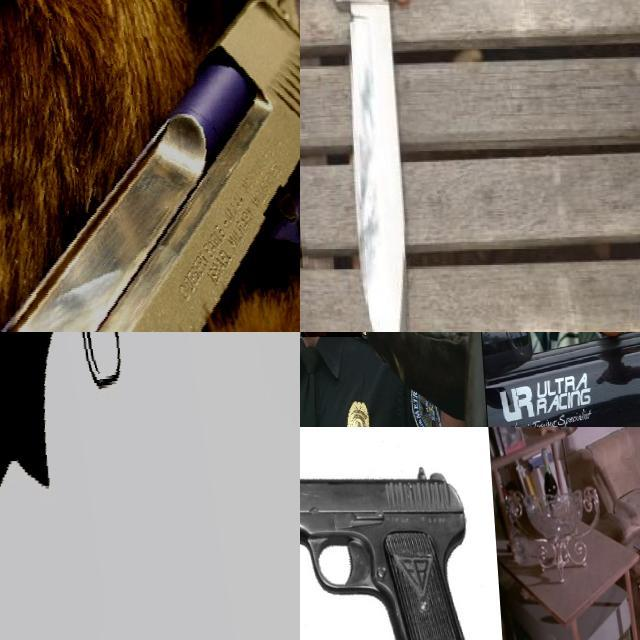-: (300, 0, 450, 332), (300, 0, 343, 267)
gun-knife-thesis - v11 Yolov5 augmented: (0, 0, 300, 332), (0, 332, 300, 640), (300, 466, 475, 640), (300, 332, 358, 397)
